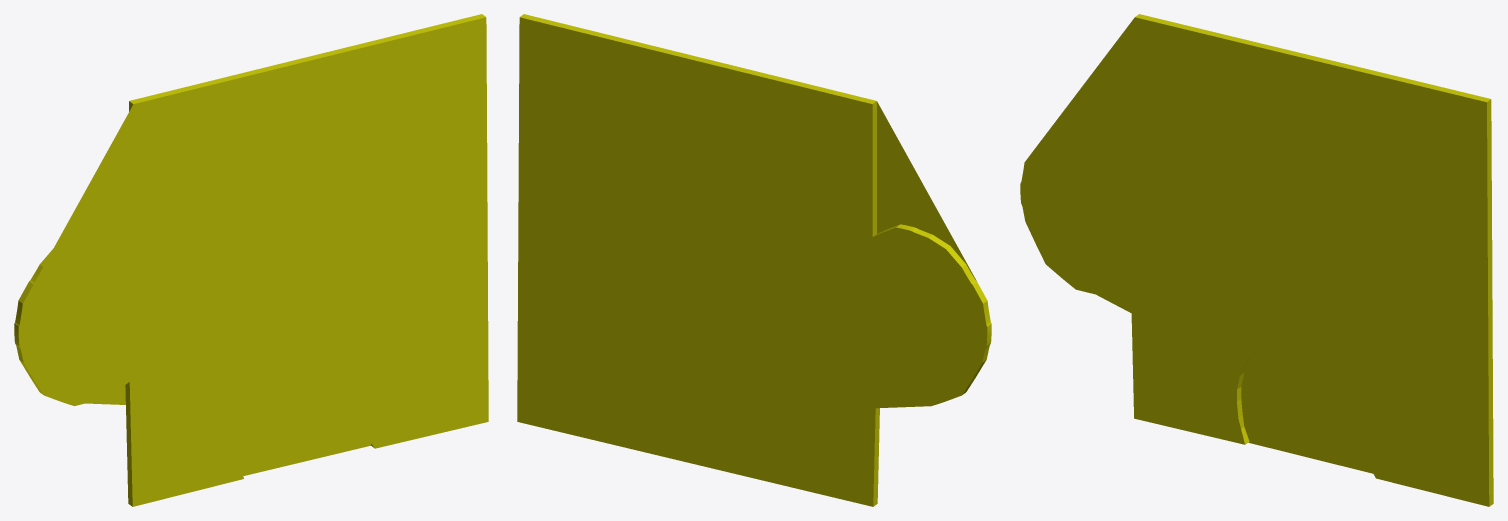
File: CornerPiece 1.obj
The picture shows the model from 3 angles, left to right: view 1: azimuth 30°, elevation 25°; view 2: azimuth 150°, elevation 25°; view 3: azimuth 330°, elevation 25°; orthographic projection.
Parts seen in each view (by area): view 1: Cap_1, Cap_2, Extrude; view 2: Cap_2, Cap_1, Extrude; view 3: Cap_1, Cap_2, Extrude.
Boxes of the visible parts, bbox=[...] form: Cap_1: bbox=[18, 17, 488, 506]; Cap_2: bbox=[85, 343, 370, 475]; Extrude: bbox=[14, 14, 485, 506]; Cap_2: bbox=[517, 17, 987, 506]; Cap_1: bbox=[877, 101, 976, 280]; Extrude: bbox=[520, 14, 991, 506]; Cap_1: bbox=[1020, 17, 1489, 506]; Cap_2: bbox=[1096, 292, 1372, 473]; Extrude: bbox=[1135, 14, 1493, 506].
Bounding box in the file's own units: 0.8472 × 0.6978 × 0.0138.
